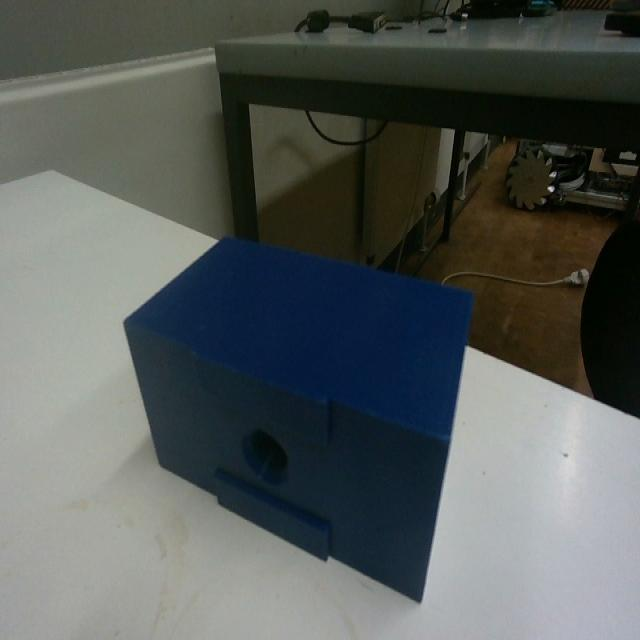Blue Cuboid: (121, 230, 475, 602)
